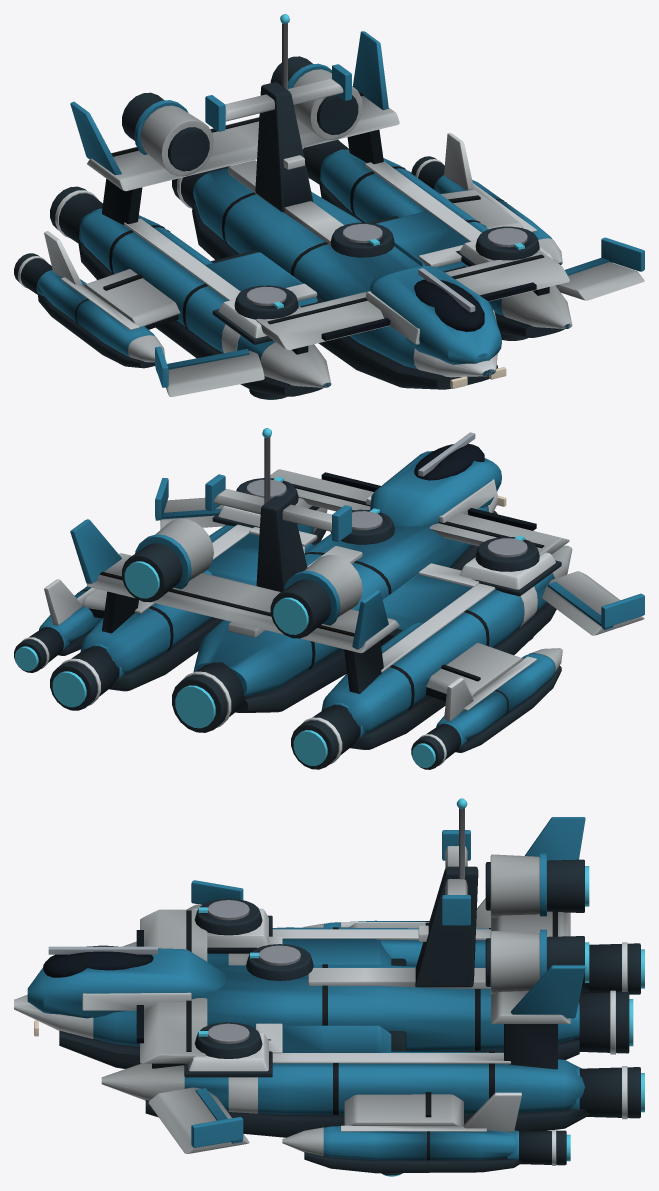
Rendered from ex_skiff_7.glb.
3 views of the same model, one above another, from view 1: azimuth 30°, elevation 25°; view 2: azimuth 150°, elevation 25°; view 3: azimuth 270°, elevation 25° (orthographic). The views are drawn at different scales.
Visible parts, largest first — view 1: body; view 2: body; view 3: body.
Part boxes in pixels (bbox=[...]): body: bbox=[14, 14, 644, 399]; body: bbox=[14, 428, 644, 769]; body: bbox=[14, 798, 644, 1176].
Bounding box in the file's own units: 9.41 × 4.89 × 10.13.
